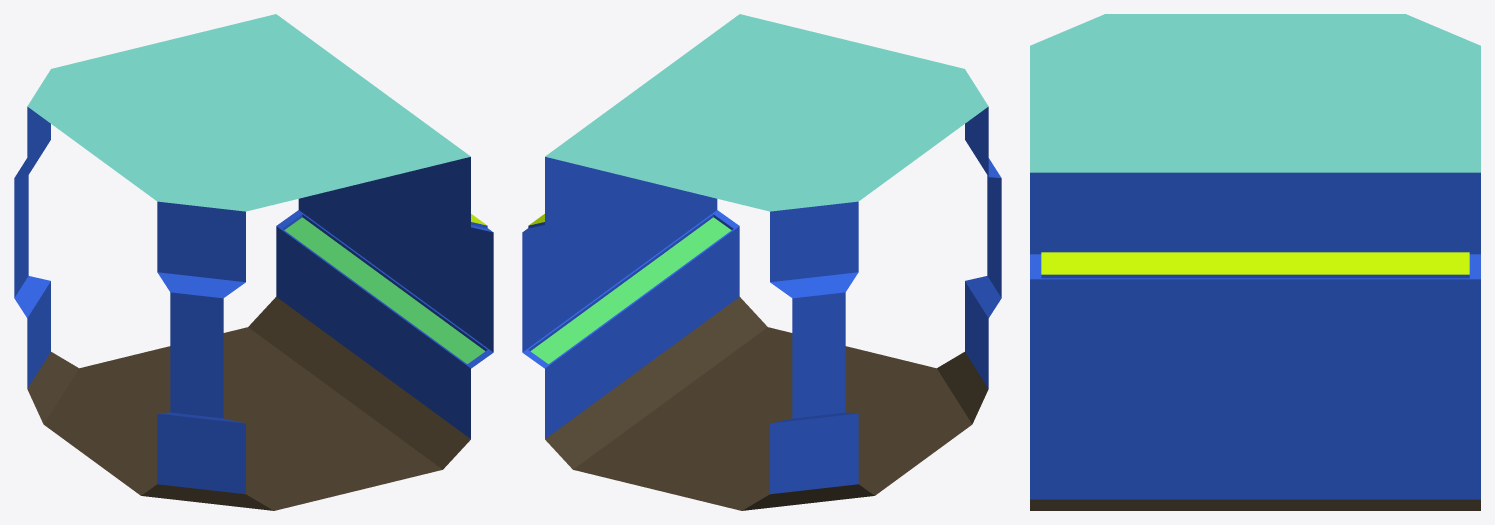
Rendered from T_junction.fbx.
The picture shows the model from 3 angles, left to right: view 1: azimuth 30°, elevation 25°; view 2: azimuth 150°, elevation 25°; view 3: azimuth 270°, elevation 25°; orthographic projection. The views are drawn at different scales.
Visible parts, largest first — view 1: T_junction; view 2: T_junction; view 3: T_junction.
Part boxes in pixels (x1,y1,x2,y2): T_junction: (14, 14, 493, 510); T_junction: (522, 14, 1001, 510); T_junction: (1030, 14, 1480, 510).
Bounding box in the file's own units: 2.7 × 2.6 × 3.
